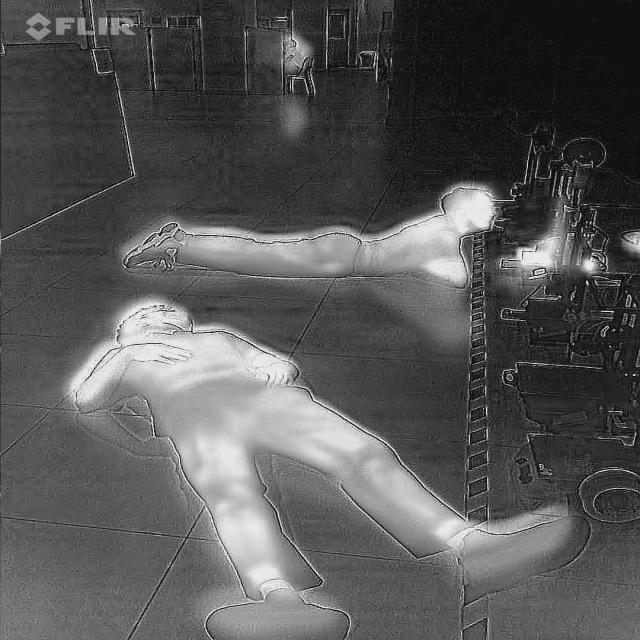Victim: (85, 310, 596, 634), (129, 179, 502, 292)
